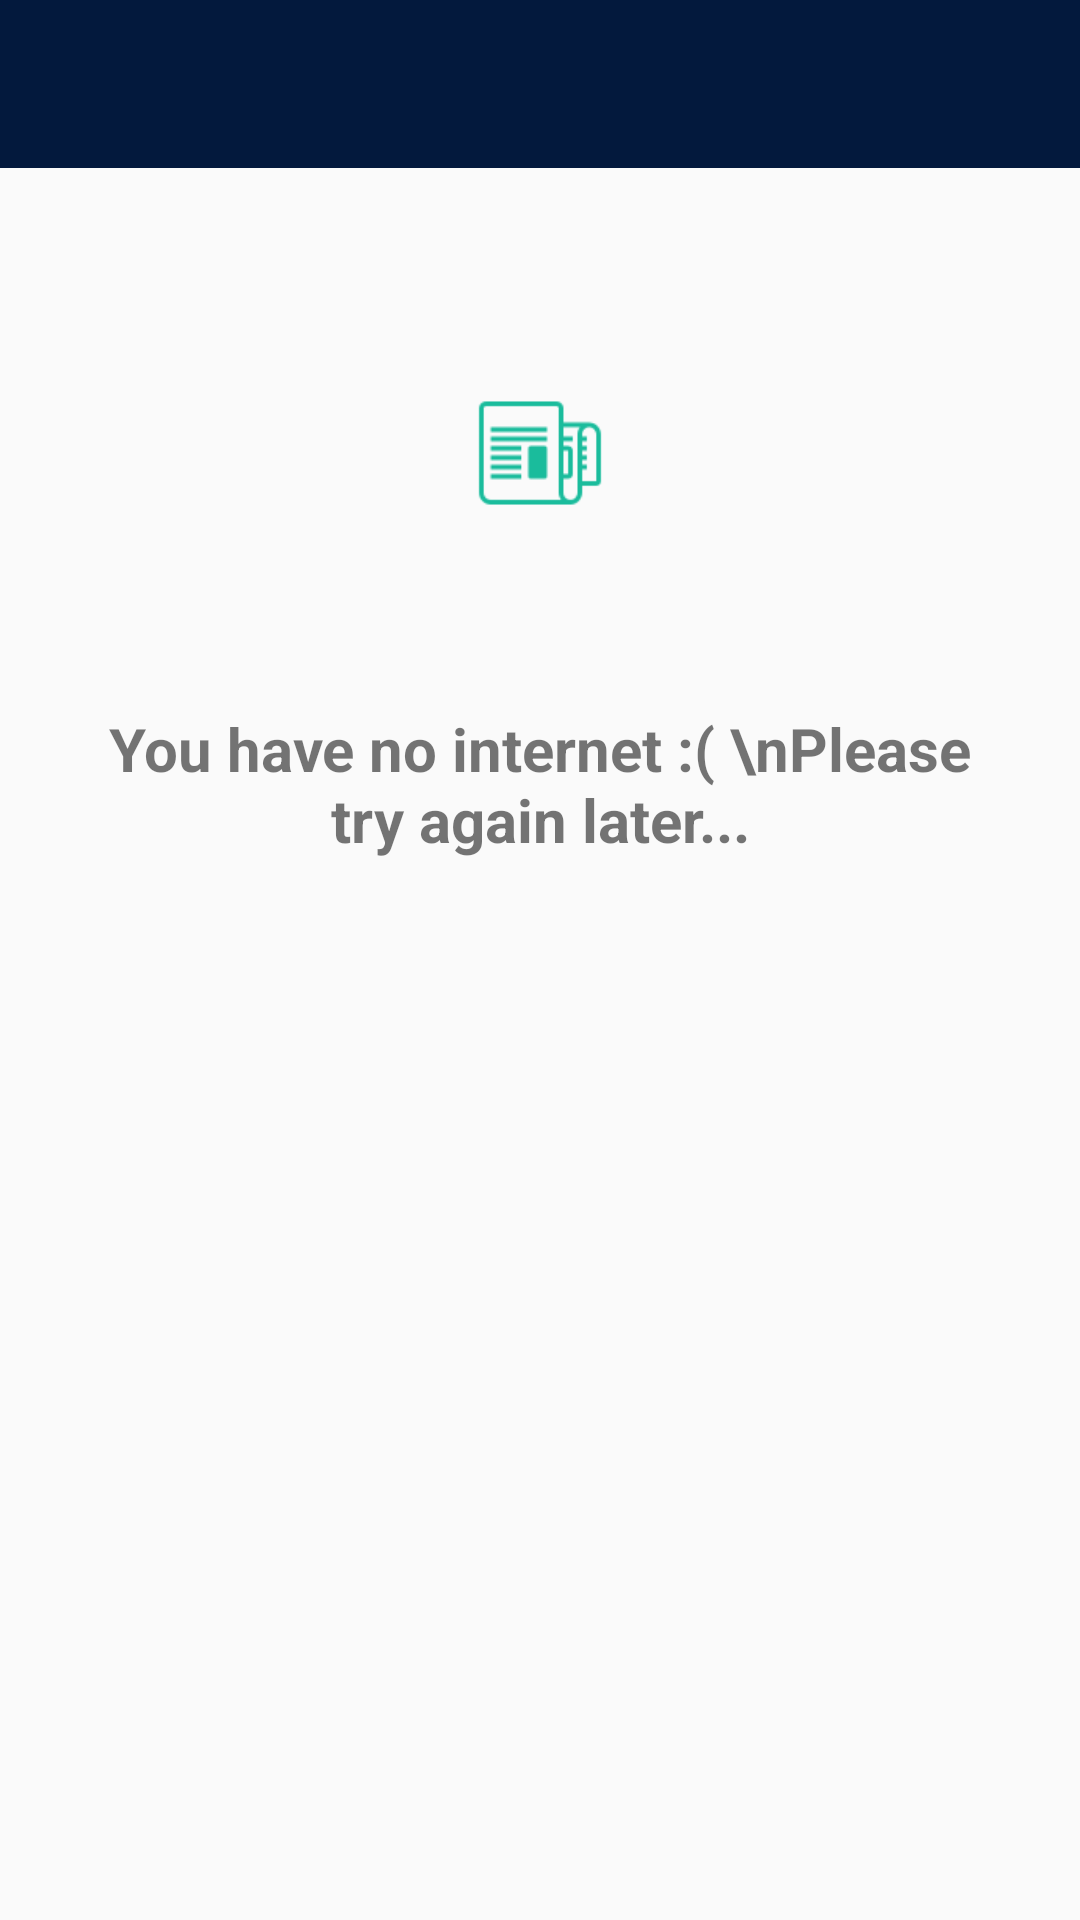

Locate icon controls on the screen. Image size 1080 × 1920, boxes as (x1, y1, x2, y2).
newspaper: (478, 401, 602, 505)
